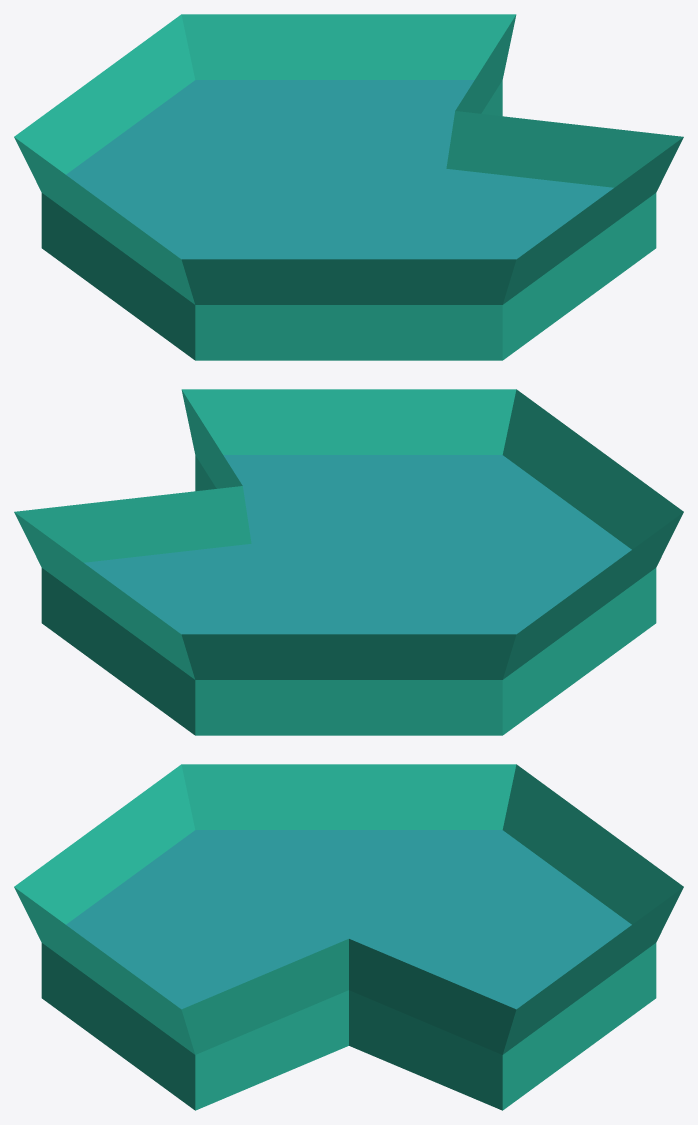
File: lily-small.glb
The picture shows the model from 3 angles, top to bottom: view 1: azimuth 30°, elevation 25°; view 2: azimuth 150°, elevation 25°; view 3: azimuth 270°, elevation 25°; orthographic projection.
Parts seen in each view (by area): view 1: lily_small; view 2: lily_small; view 3: lily_small.
Part boxes in pixels (x1,y1,x2,y2): lily_small: (14, 14, 683, 360); lily_small: (14, 389, 683, 735); lily_small: (14, 764, 683, 1110).
Size of the model in its own units: 0.1888 by 0.04 by 0.218.
